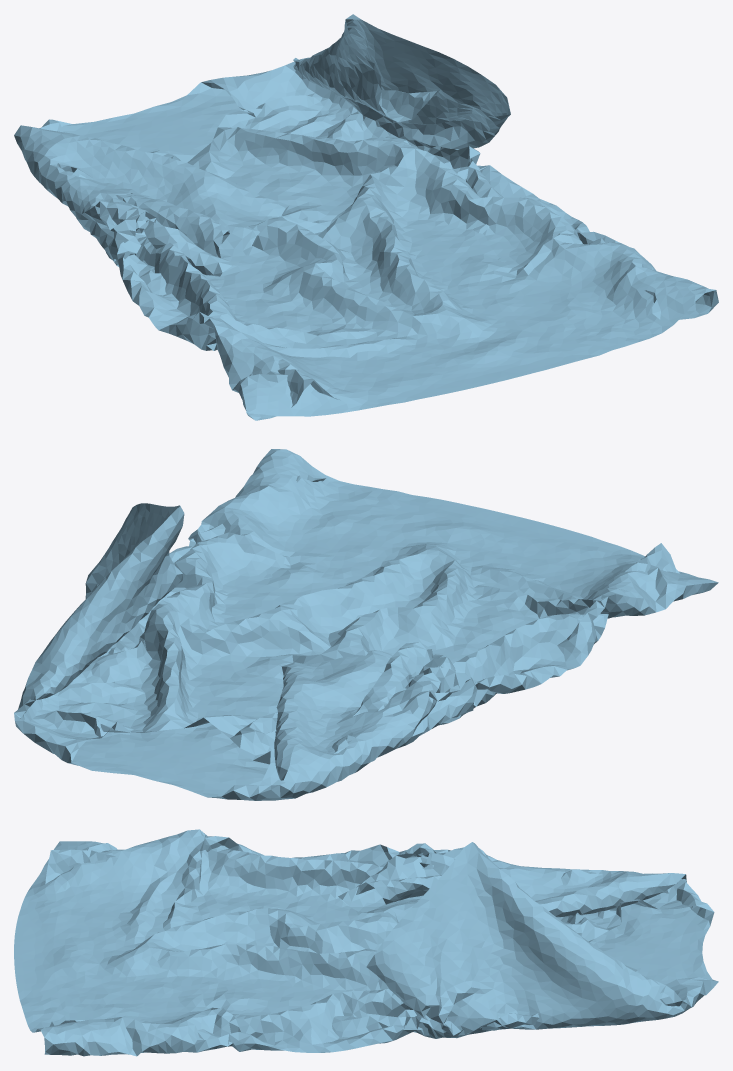
Rendered from frame_13.glb.
3 renders of one model, top to bottom at view 1: azimuth 30°, elevation 25°; view 2: azimuth 150°, elevation 25°; view 3: azimuth 270°, elevation 25°, orthographic. The views are drawn at different scales.
Parts seen in each view (by area): view 1: frame_13.obj; view 2: frame_13.obj; view 3: frame_13.obj.
Part boxes in pixels (x1,y1,x2,y2): frame_13.obj: (14,14,718,420); frame_13.obj: (14,449,718,800); frame_13.obj: (14,829,718,1056).
Size of the model in its own units: 1.21 by 0.4321 by 1.7.
